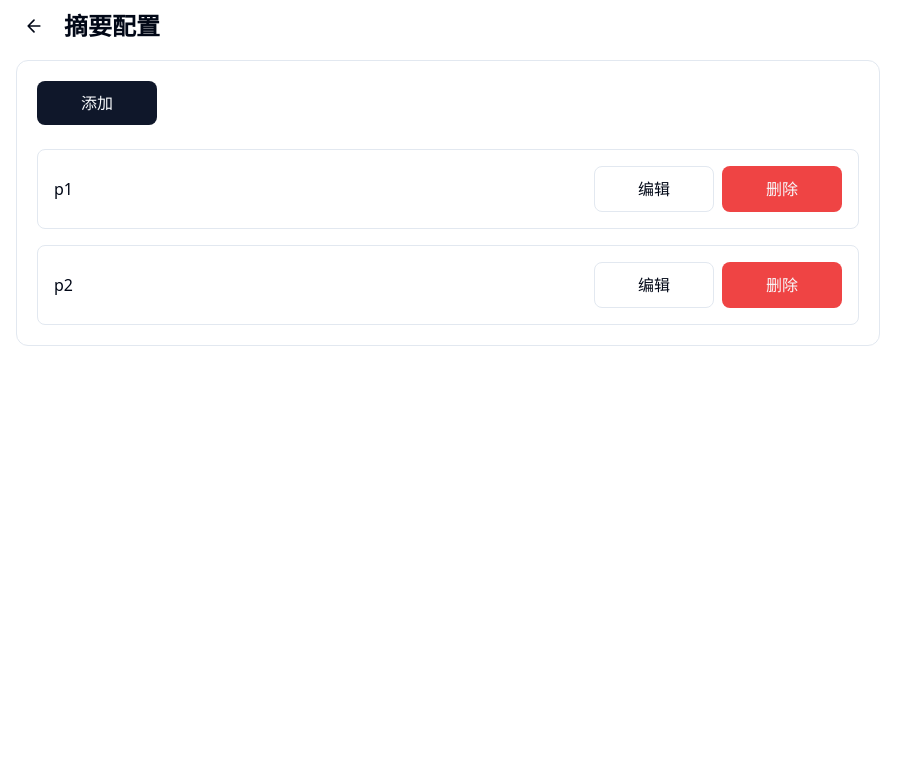
Summary profile management interaction (S014) › Happy path › users can update profile and see updated name in list
Check: the text "p1" is shown, box [54, 177, 73, 201]
Click the button "编辑" in the row of "p1". click: point(654, 189)
box: [594, 166, 714, 212]
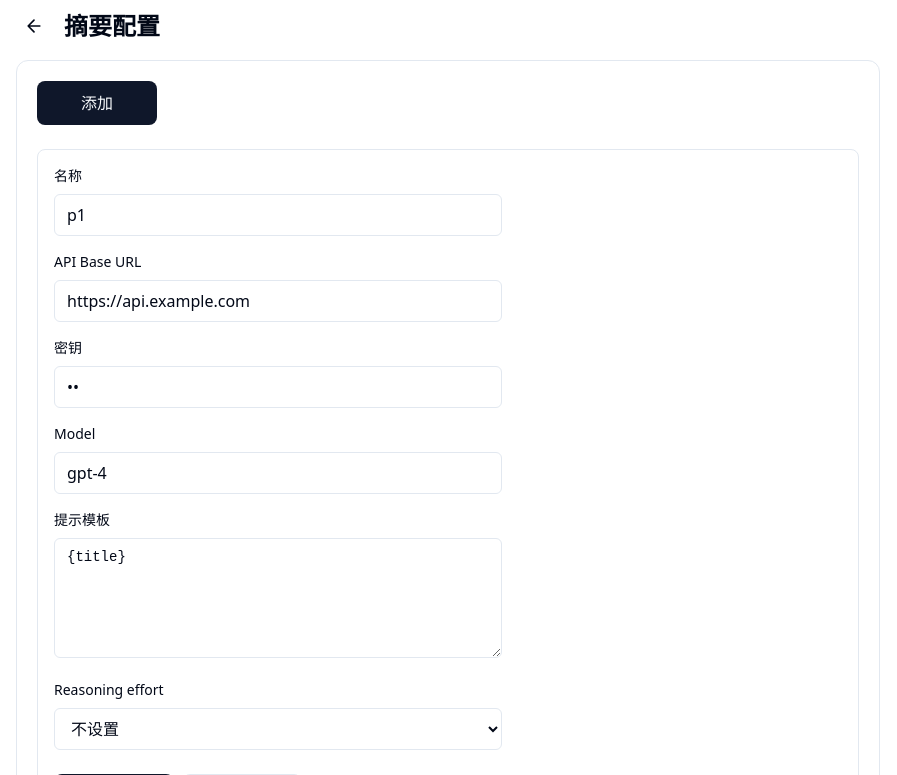
Replace the text in the field showing "p1" with "p1-updated". click: point(278, 215)
box: [54, 194, 502, 236]
(page scrolled)
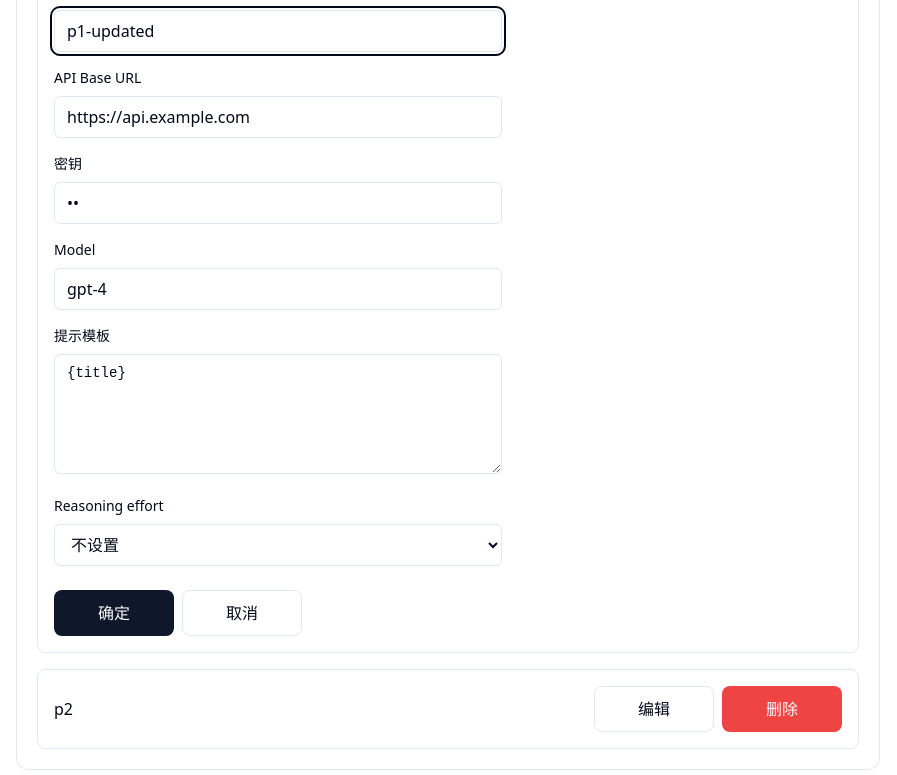
Click the button "确定". click: point(114, 613)
box: [54, 590, 174, 636]
(page scrolled)
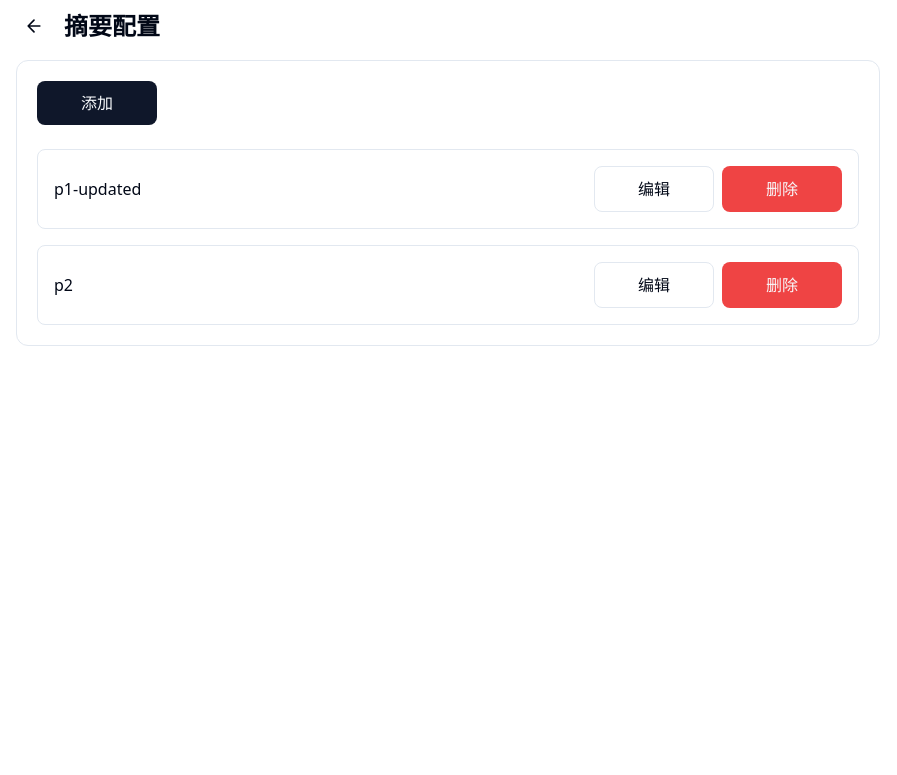
Check: the text "p1-updated" is shown, box [54, 177, 141, 201]
